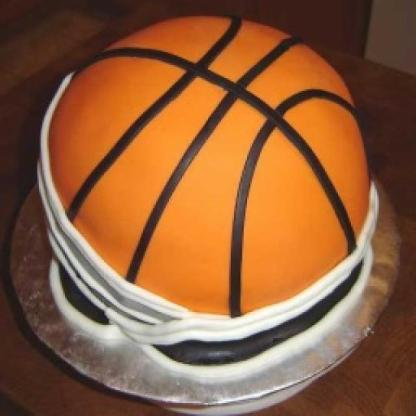basketball: (45, 8, 375, 327)
